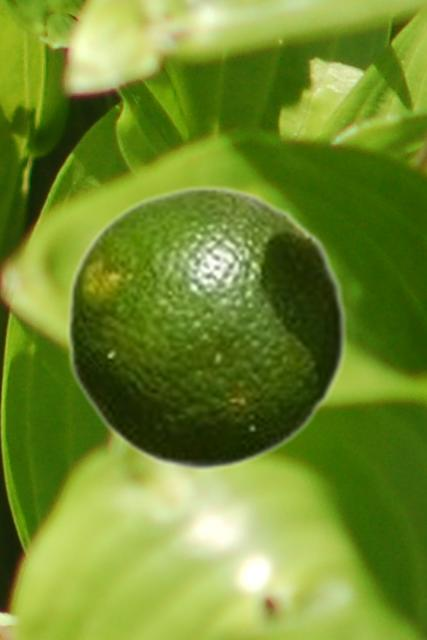calamansi: (64, 184, 348, 470)
